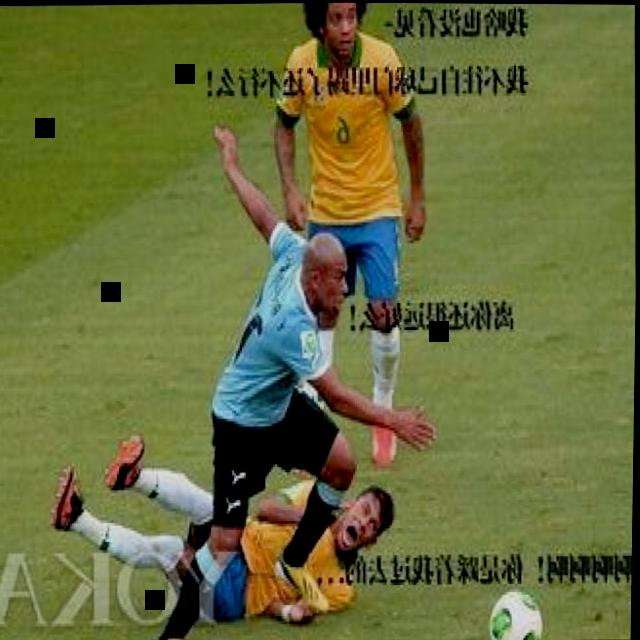Fall-Detected: (36, 415, 412, 640)
